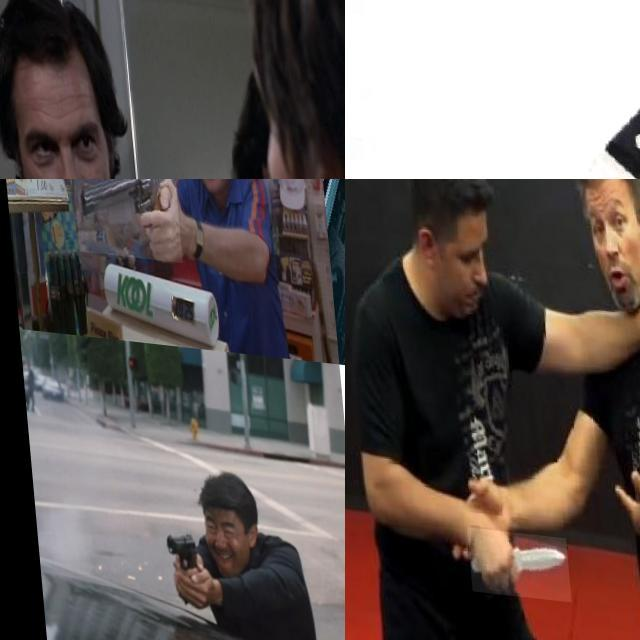-: (350, 0, 640, 179), (459, 523, 563, 596)
gun-knife-thesis - v11 Yolov5 augmented: (68, 179, 178, 259), (154, 524, 198, 606)
